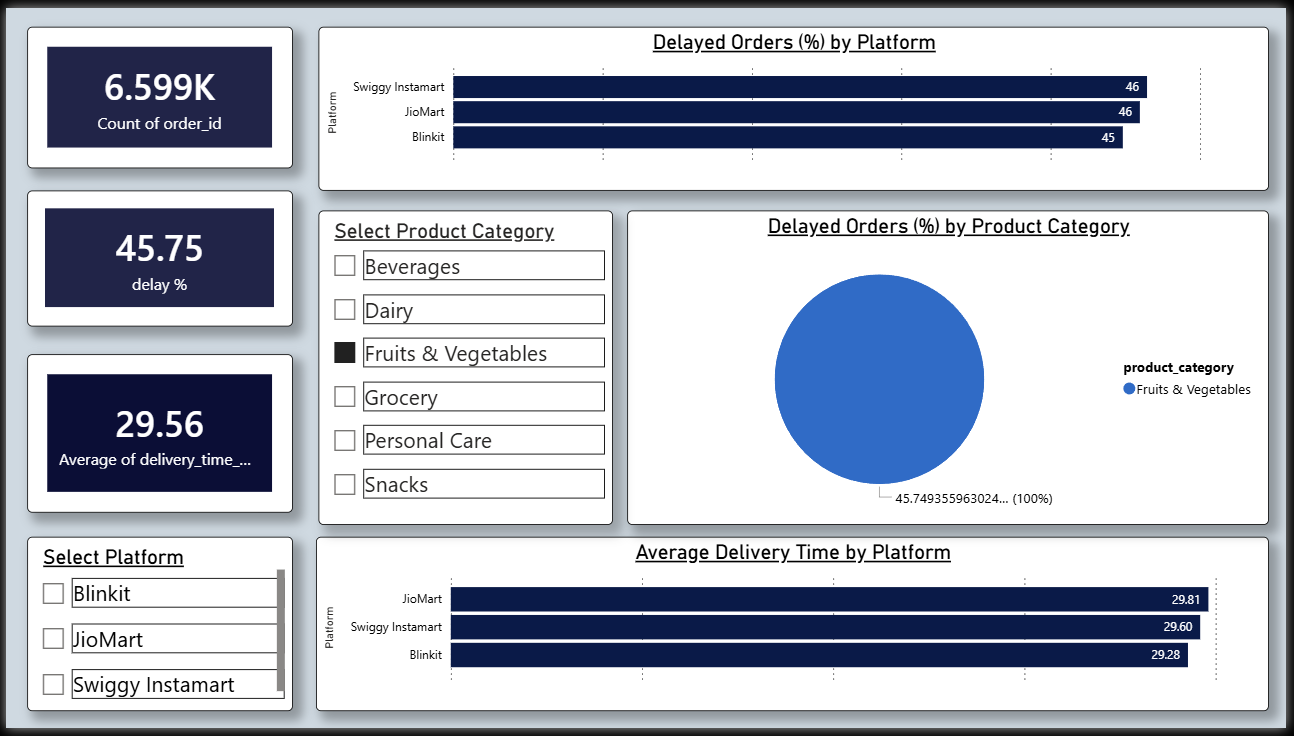

The page's visual inventory and layout, read from the dashboard file:
{"tool":"powerbi","page":{"name":"Page 1","canvas":[1280,720],"ordinal":0},"visuals":[{"type":"cardVisual","fields":{"Data":["Count(ecommerce ecommerce_cleaned_final.order_id)"]},"box":[21.4,18.6,265.7,141.4],"z":0},{"type":"cardVisual","fields":{"Data":["Avg(ecommerce ecommerce_cleaned_final.delivery_time_minutes)"]},"box":[21.4,345.7,265.7,158.6],"z":1000},{"type":"cardVisual","fields":{"Data":["ecommerce ecommerce_cleaned_final.delay %"]},"box":[21.4,182.9,265.7,135.7],"z":2000},{"type":"clusteredBarChart","title":"Average Delivery Time by Platform","fields":{"Category":["ecommerce ecommerce_cleaned_final.Platform"],"Y":["Avg(ecommerce ecommerce_cleaned_final.delivery_time_minutes)"]},"box":[310,528.6,952.9,174.3],"z":3000},{"type":"pieChart","title":"Delayed Orders (%) by Product Category","fields":{"Category":["ecommerce ecommerce_cleaned_final.product_category"],"Y":["ecommerce ecommerce_cleaned_final.delay %"]},"box":[621.4,202.9,641.4,314.3],"z":4000},{"type":"clusteredBarChart","title":"Delayed Orders (%) by Platform","fields":{"Category":["ecommerce ecommerce_cleaned_final.Platform"],"Y":["ecommerce ecommerce_cleaned_final.delay %"]},"box":[312.9,18.6,950,164.3],"z":5000},{"type":"slicer","fields":{"Values":["ecommerce ecommerce_cleaned_final.Platform"]},"box":[21.4,528.6,265.7,174.3],"z":6000},{"type":"slicer","fields":{"Values":["ecommerce ecommerce_cleaned_final.product_category"]},"box":[312.9,202.9,294.3,314.3],"z":6001}]}

Visuals, with their boxes in screenshot pixels (x1, y1, x2, y2), scaled from the page's 1280x720 canvas onto the 1294x736 screenshot:
cardVisual - Count(ecommerce ecommerce_cleaned_final.order_id): 22 19 290 164
cardVisual - Avg(ecommerce ecommerce_cleaned_final.delivery_time_minutes): 22 353 290 516
cardVisual - ecommerce ecommerce_cleaned_final.delay %: 22 187 290 326
"Average Delivery Time by Platform" clusteredBarChart: 313 540 1277 719
"Delayed Orders (%) by Product Category" pieChart: 628 207 1277 529
"Delayed Orders (%) by Platform" clusteredBarChart: 316 19 1277 187
slicer - ecommerce ecommerce_cleaned_final.Platform: 22 540 290 719
slicer - ecommerce ecommerce_cleaned_final.product_category: 316 207 614 529
